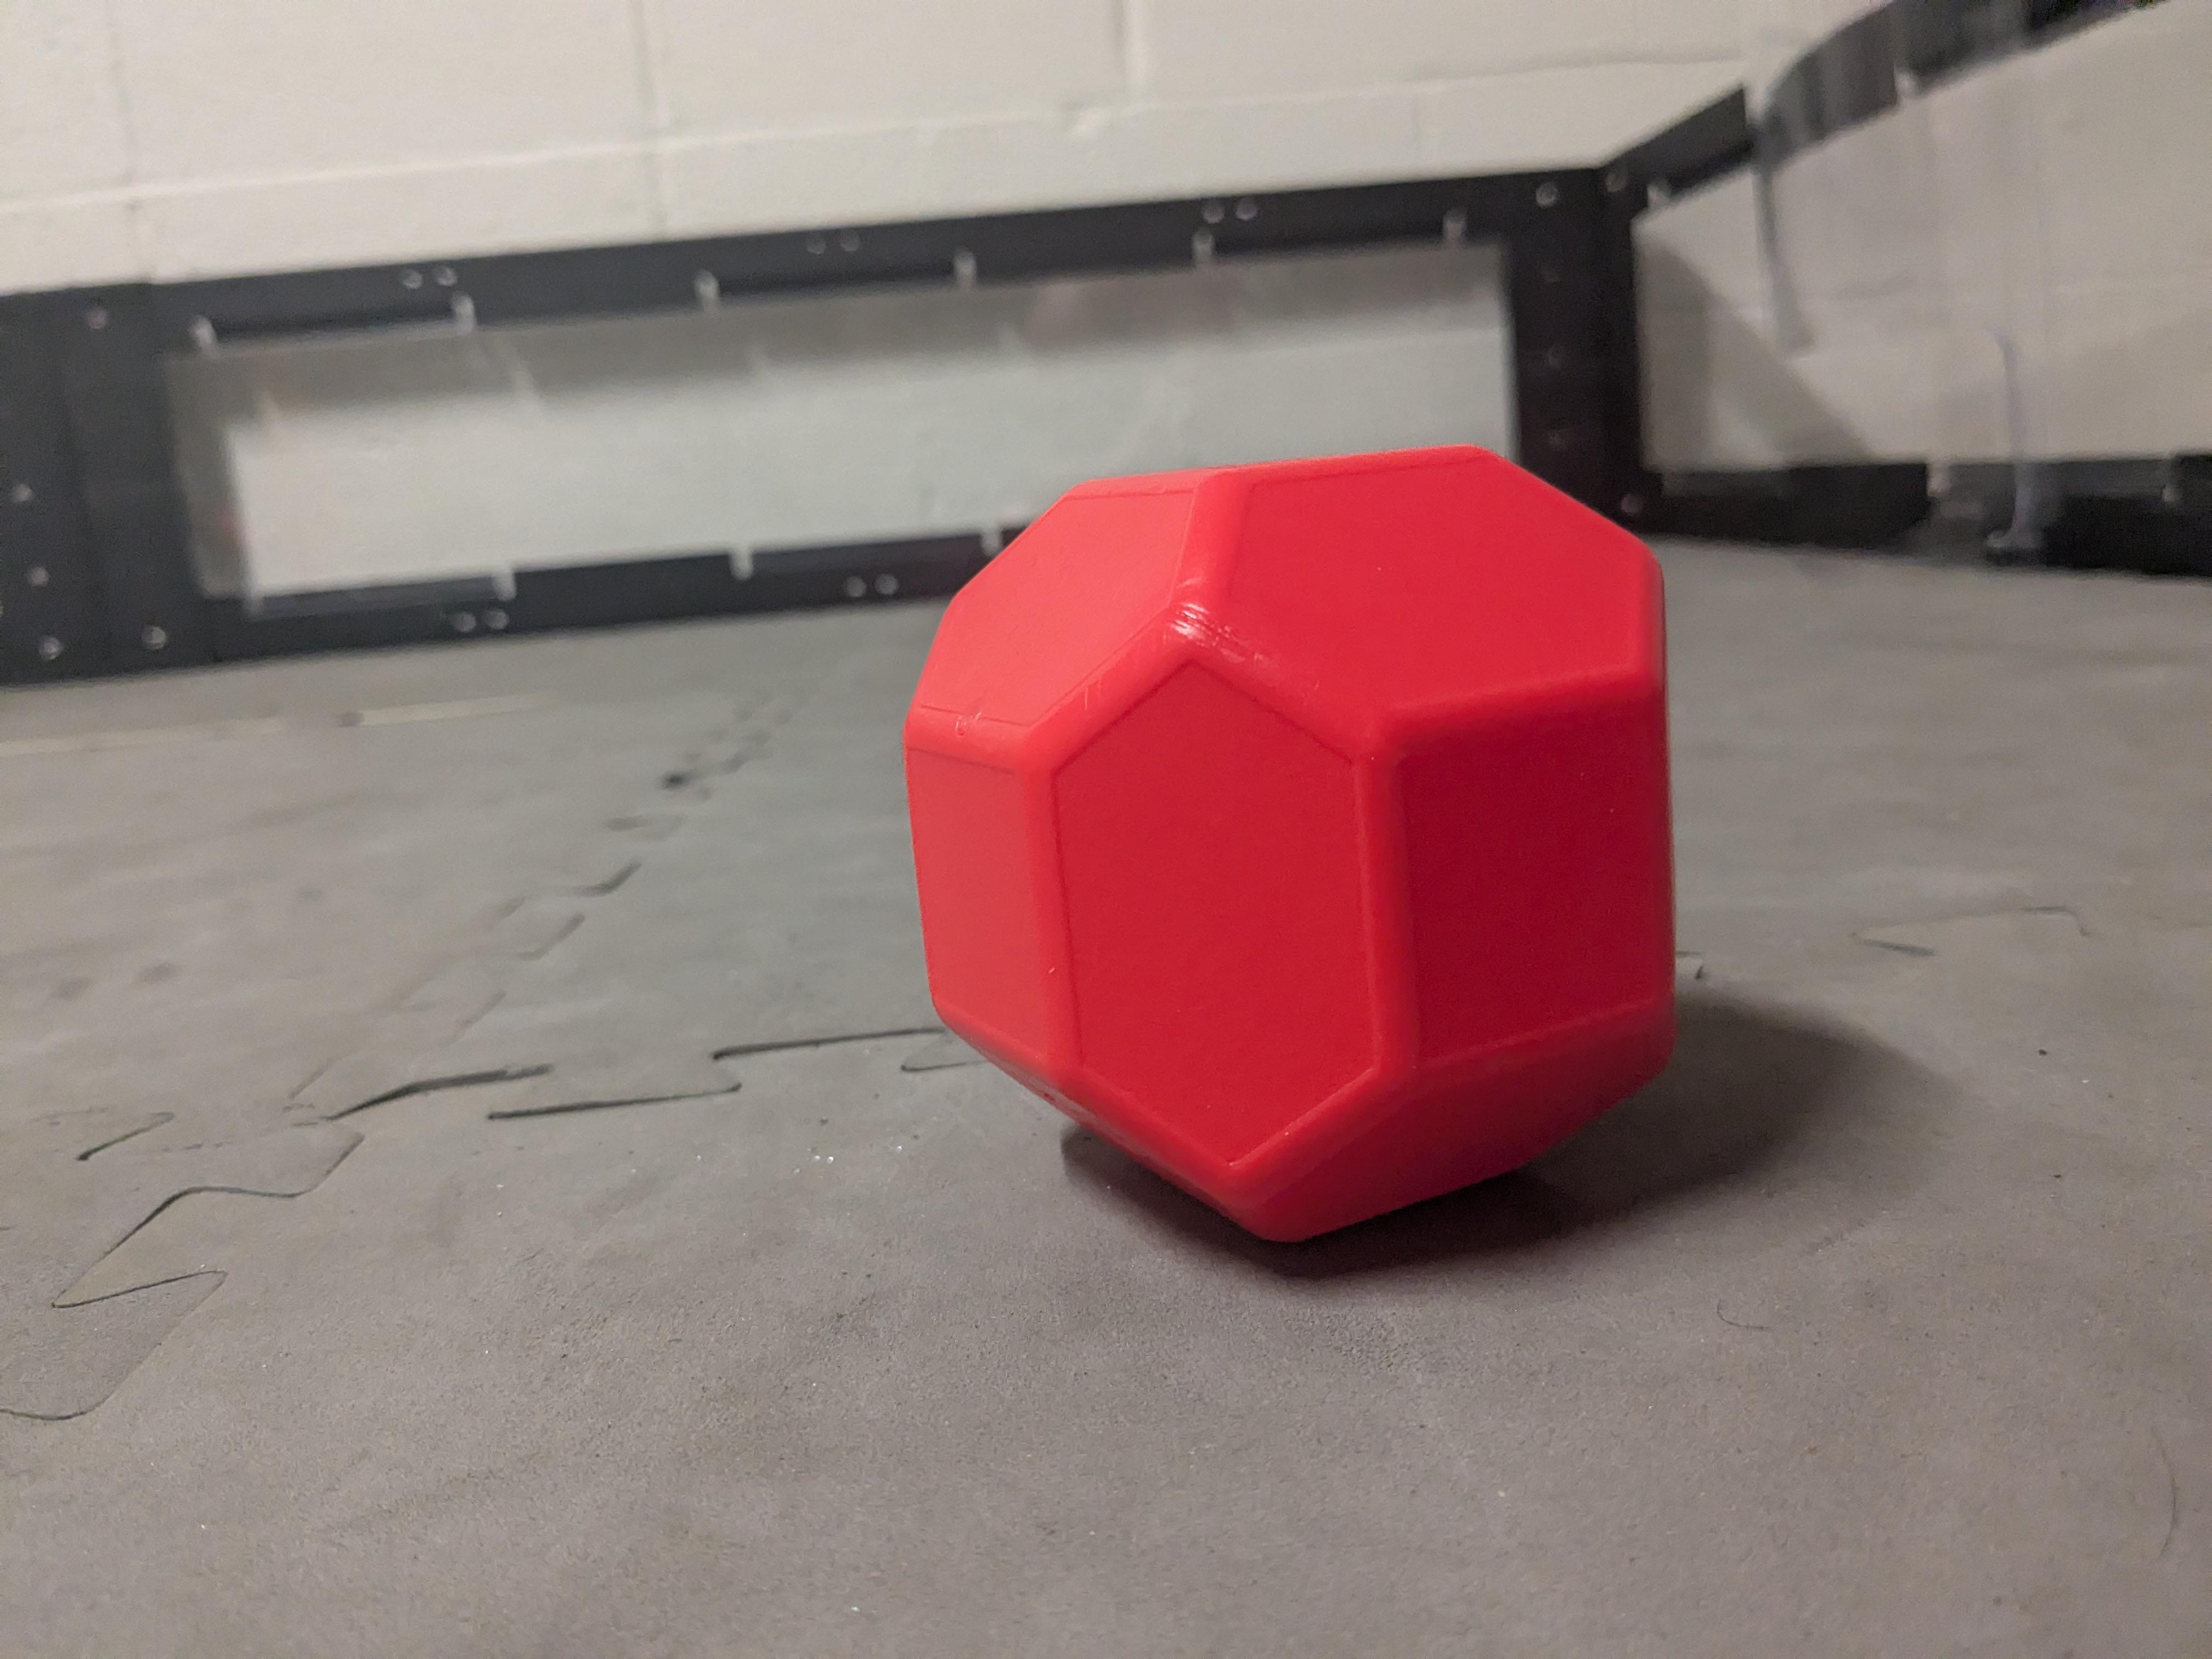Vex-Pieces-RED: (902, 455, 1679, 1251)
